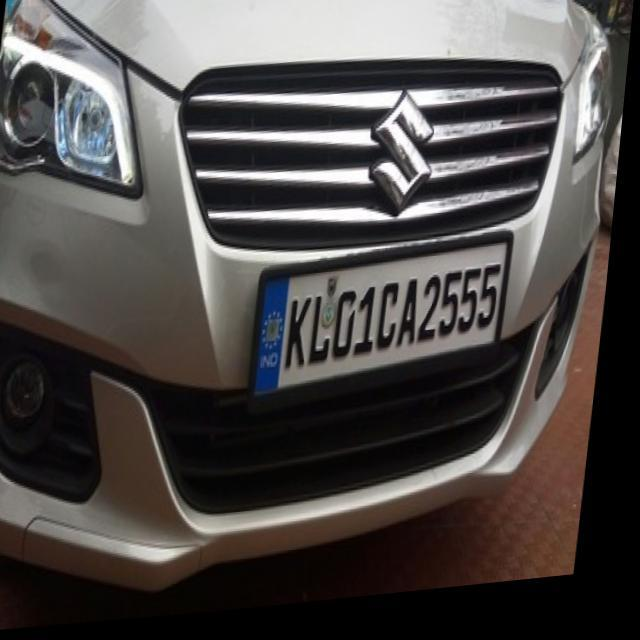license_plate: (255, 252, 513, 391)
